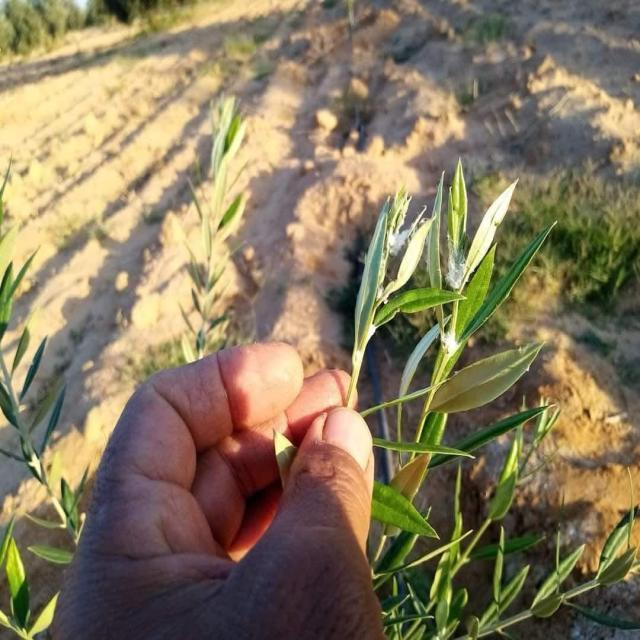Psyllid: (375, 198, 432, 310), (446, 229, 483, 291), (438, 315, 464, 369)
